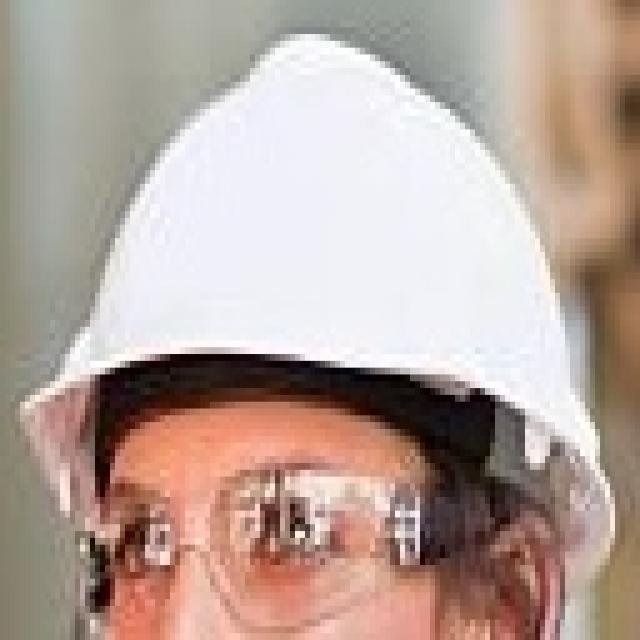helmet_white: (2, 4, 638, 636)
